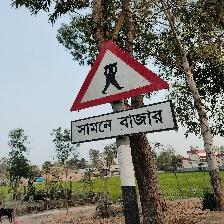Market-in-front: (68, 39, 177, 144)
